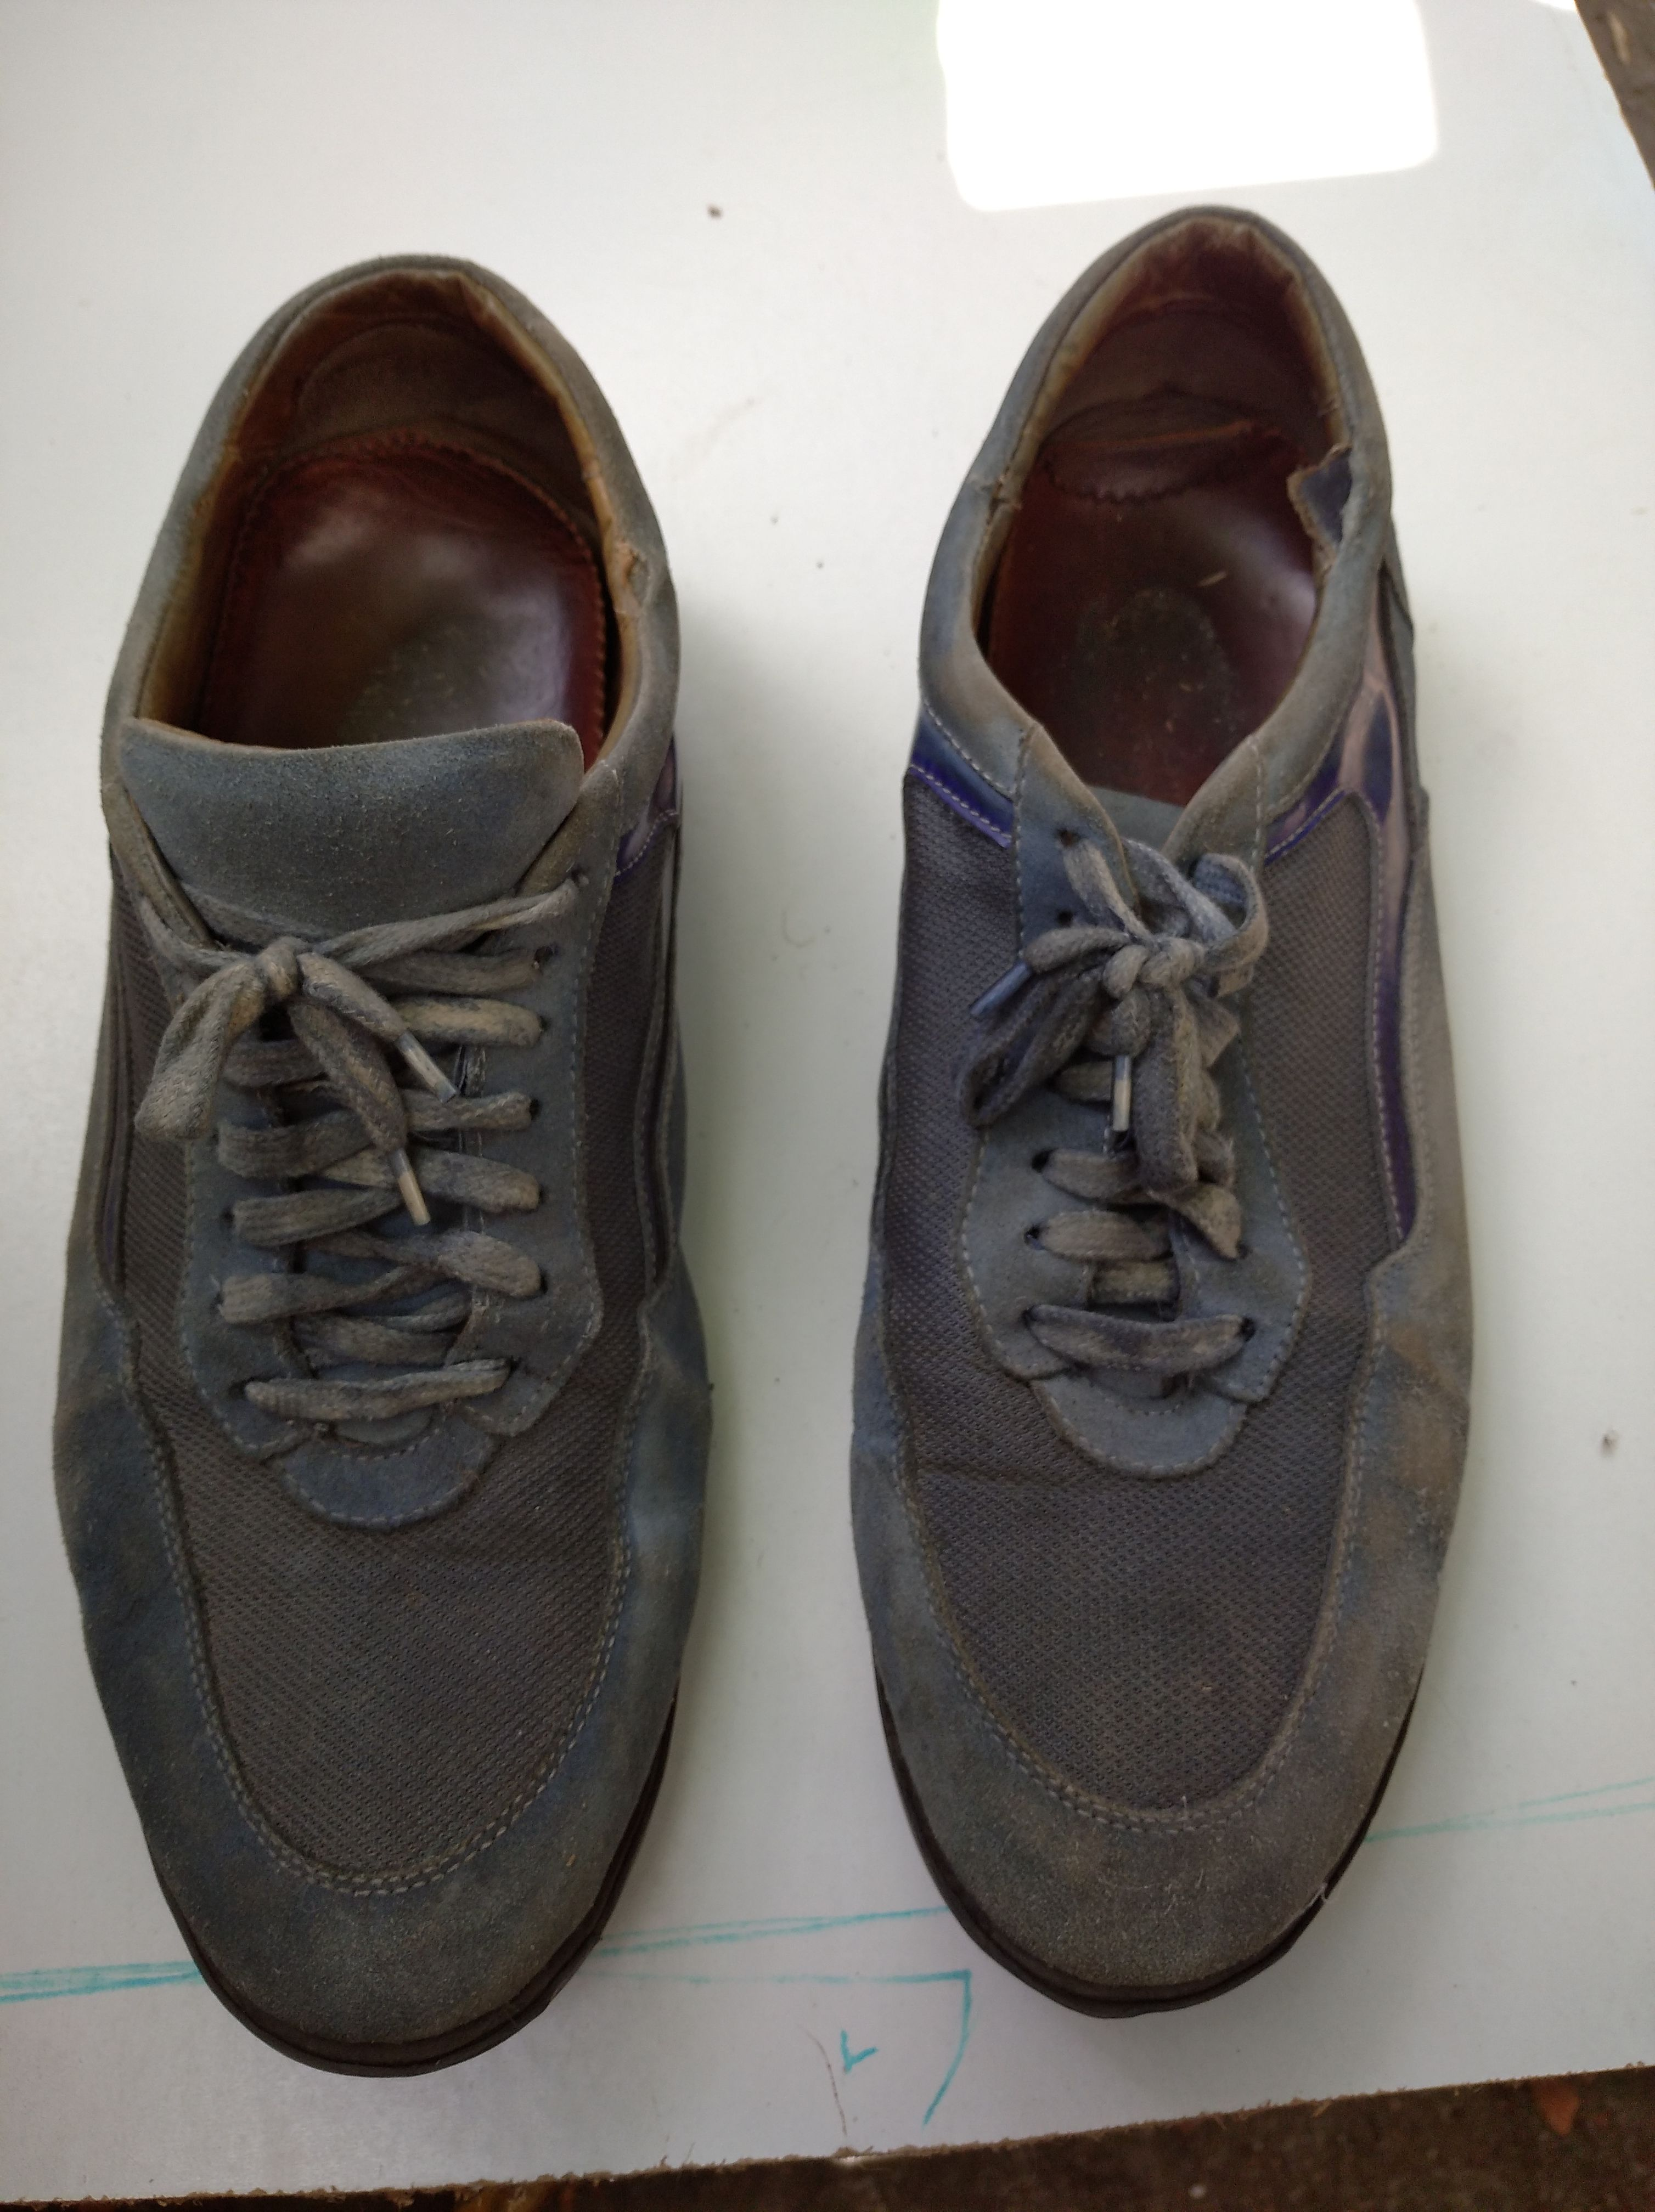clothes: (66, 240, 739, 2066), (850, 209, 1514, 2026)
